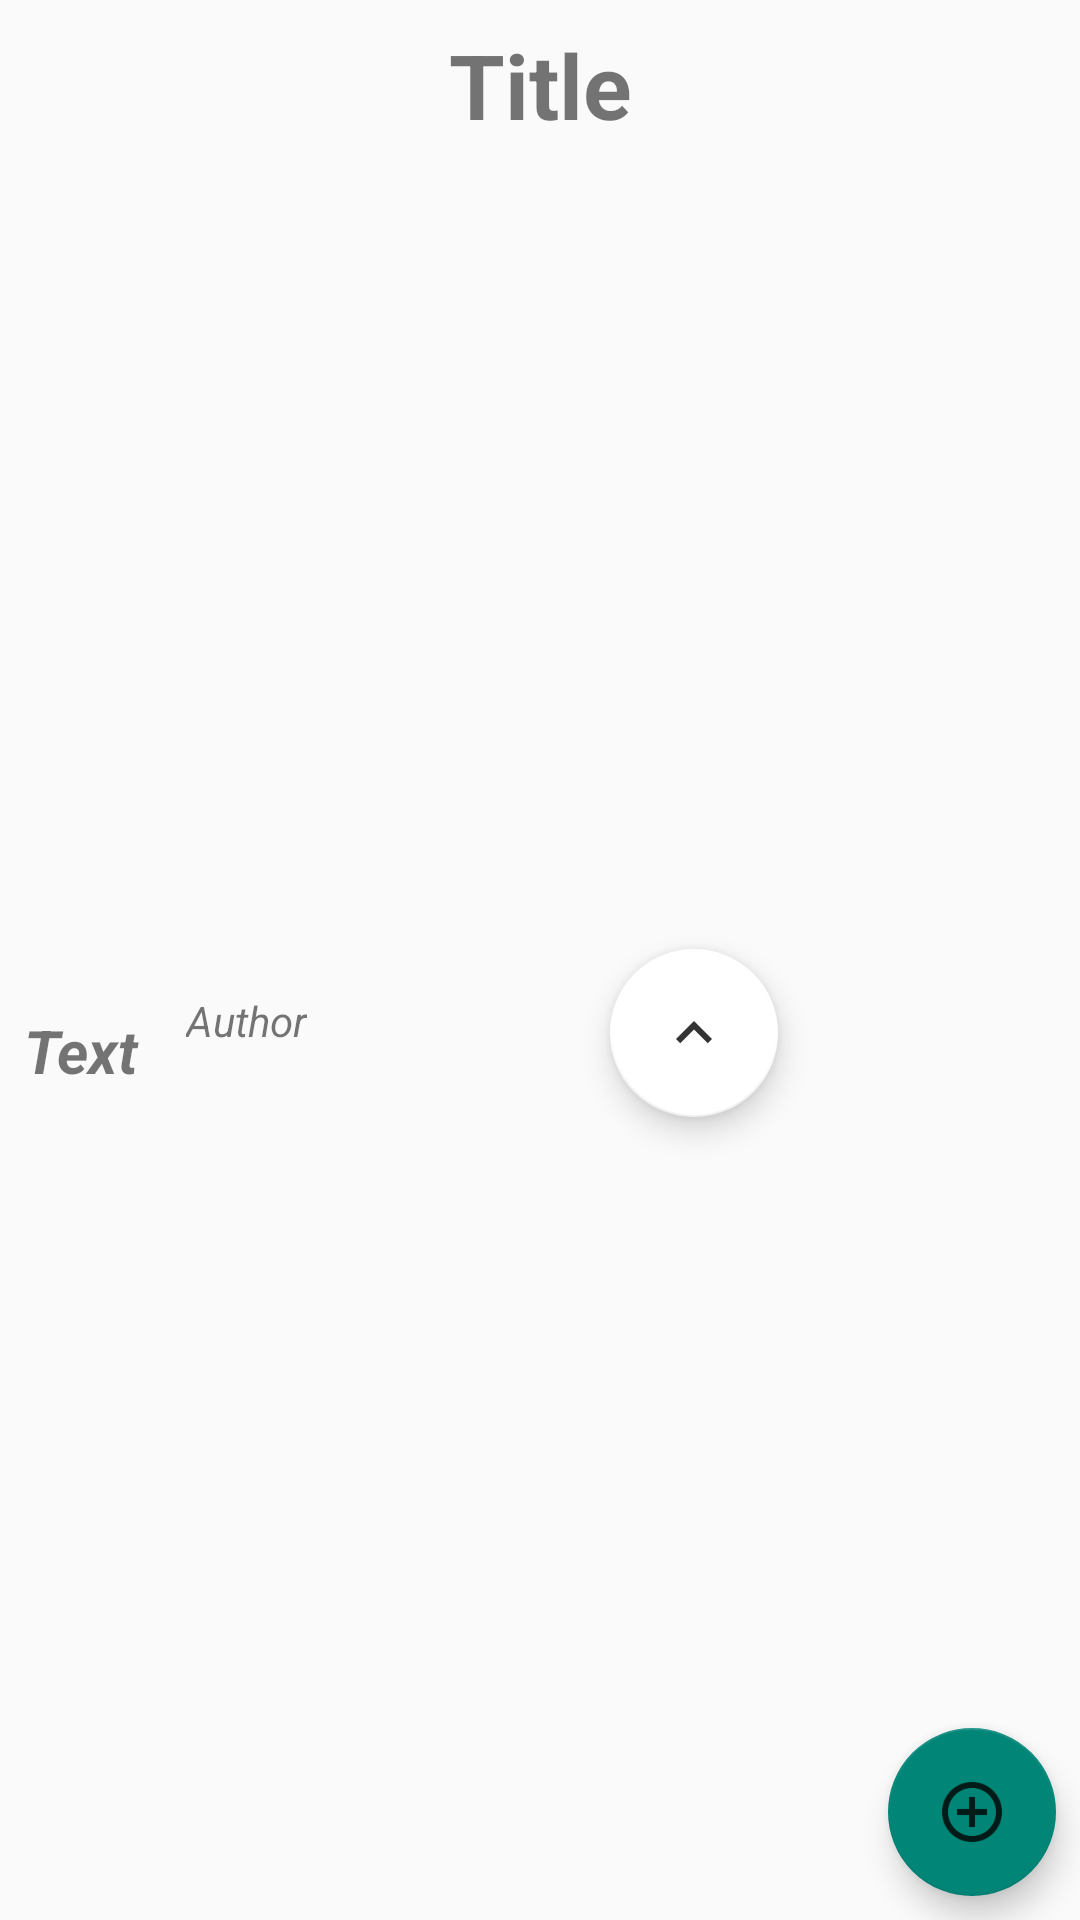

Icon bounding boxes for this 1080 × 1920 phone screenshot, format box(x1, y1, x2, y2):
add: box(888, 1728, 1056, 1896)
